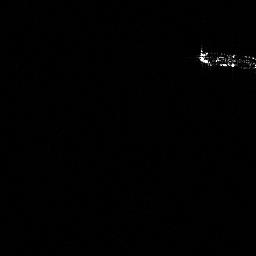ship: (197, 47, 256, 71)
